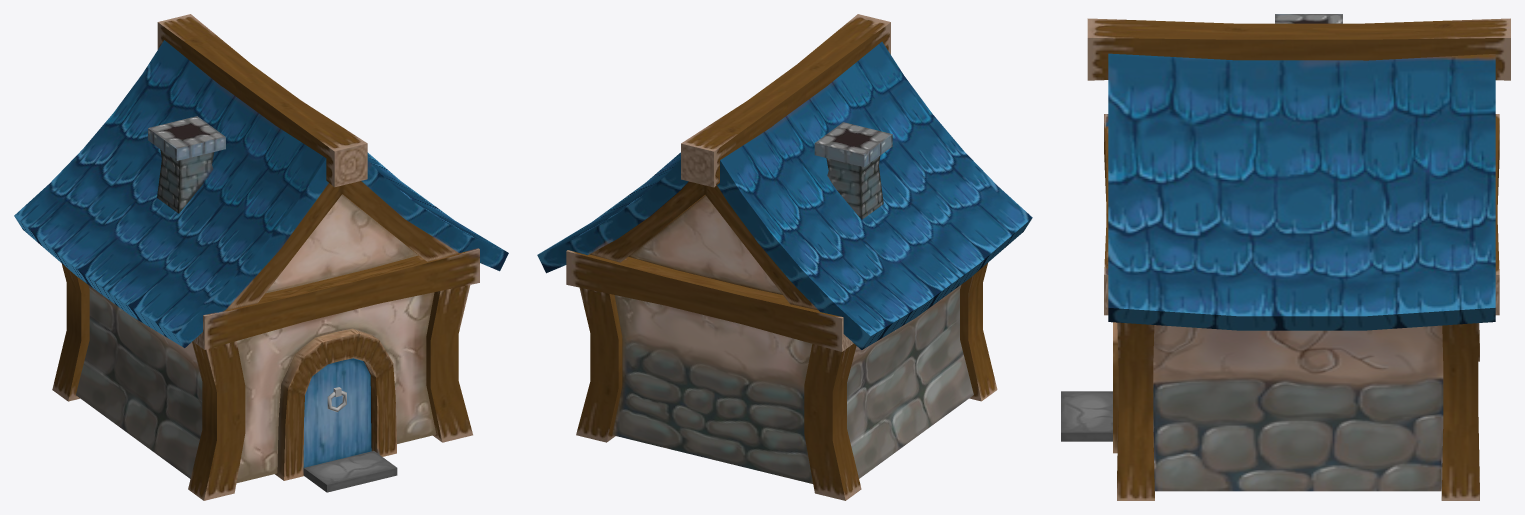
Rendered from little_low-poly_witch_house.glb.
3 renders of one model, left to right at view 1: azimuth 30°, elevation 25°; view 2: azimuth 150°, elevation 25°; view 3: azimuth 270°, elevation 25°, orthographic. The views are drawn at different scales.
Visible parts, largest first — view 1: Roof, House, Planks_roof, Planks_side, Box010, Door, Planks_below_roof, Chimney, Door_stone; view 2: Roof, House, Planks_roof, Planks_side, Chimney, Planks_below_roof; view 3: Roof, House, Planks_roof, Planks_side, Door_stone, Box010, Chimney.
Part boxes in pixels (box(x1,y1,x2,y2)): Roof: box(14, 40, 508, 347); House: box(76, 194, 436, 483); Planks_roof: box(157, 14, 479, 349); Planks_side: box(52, 263, 472, 500); Box010: box(275, 328, 396, 480); Door: box(303, 358, 371, 467); Planks_below_roof: box(226, 181, 458, 309); Chimney: box(148, 116, 225, 213); Door_stone: box(303, 451, 397, 492); Roof: box(537, 41, 1032, 349); House: box(612, 195, 973, 483); Planks_roof: box(566, 14, 890, 351); Planks_side: box(576, 263, 997, 500); Chimney: box(814, 122, 892, 219); Planks_below_roof: box(590, 181, 817, 310); Roof: box(1108, 53, 1495, 330); House: box(1153, 325, 1443, 491); Planks_roof: box(1087, 18, 1510, 315); Planks_side: box(1117, 322, 1479, 500); Door_stone: box(1061, 391, 1112, 441); Box010: box(1113, 322, 1118, 453); Chimney: box(1275, 14, 1342, 23).
Bounding box in the file's own units: 2 × 1.89 × 1.96.
Materials: 1 (1 with a texture image).
